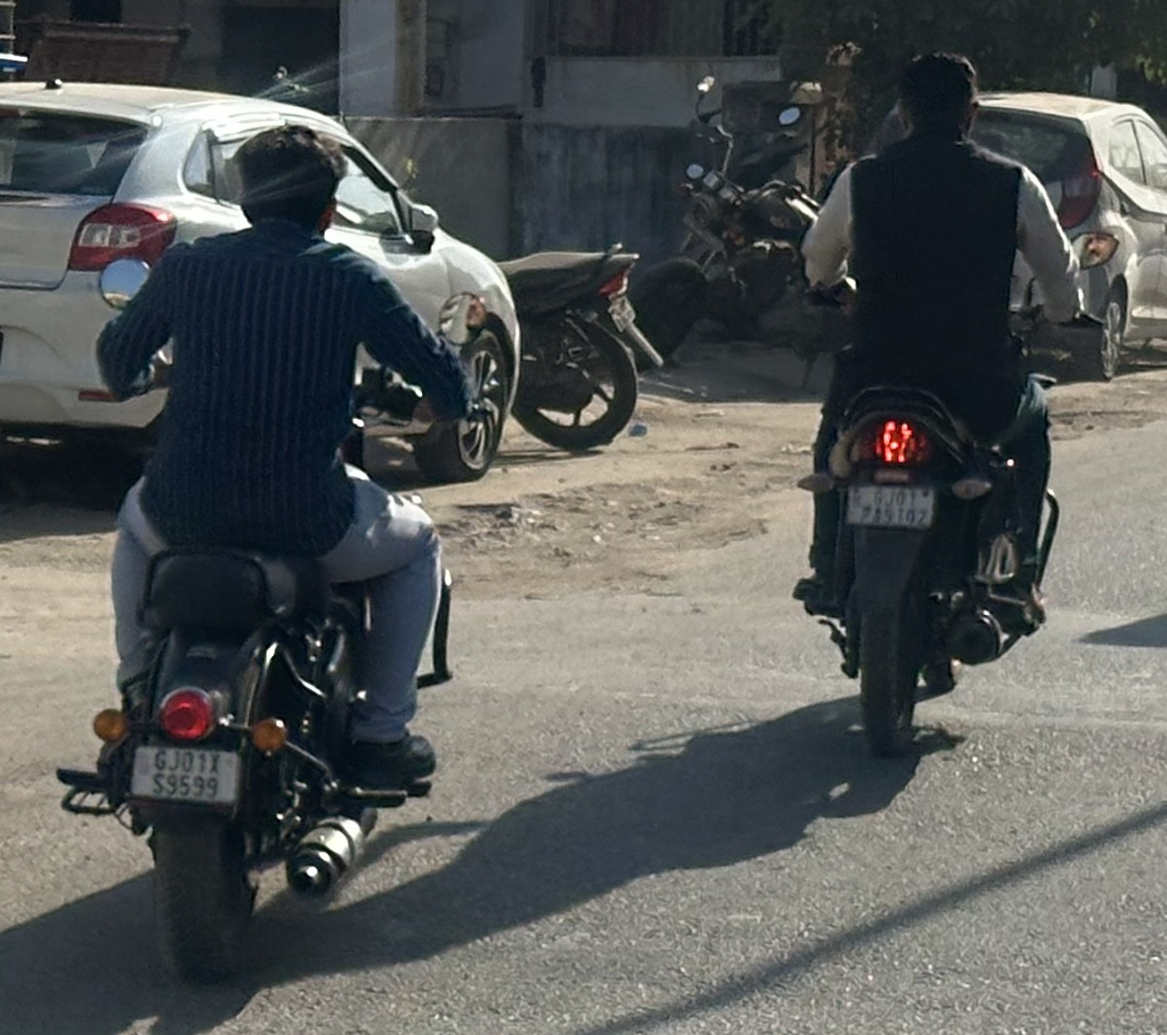BikeWithRider: (45, 110, 491, 997), (778, 40, 1112, 764)
NoHelmet: (224, 116, 355, 248), (887, 42, 989, 153)
